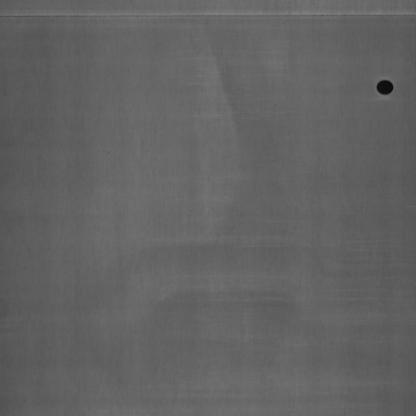punching_hole: (374, 74, 396, 102)
welding_line: (0, 2, 416, 26)
